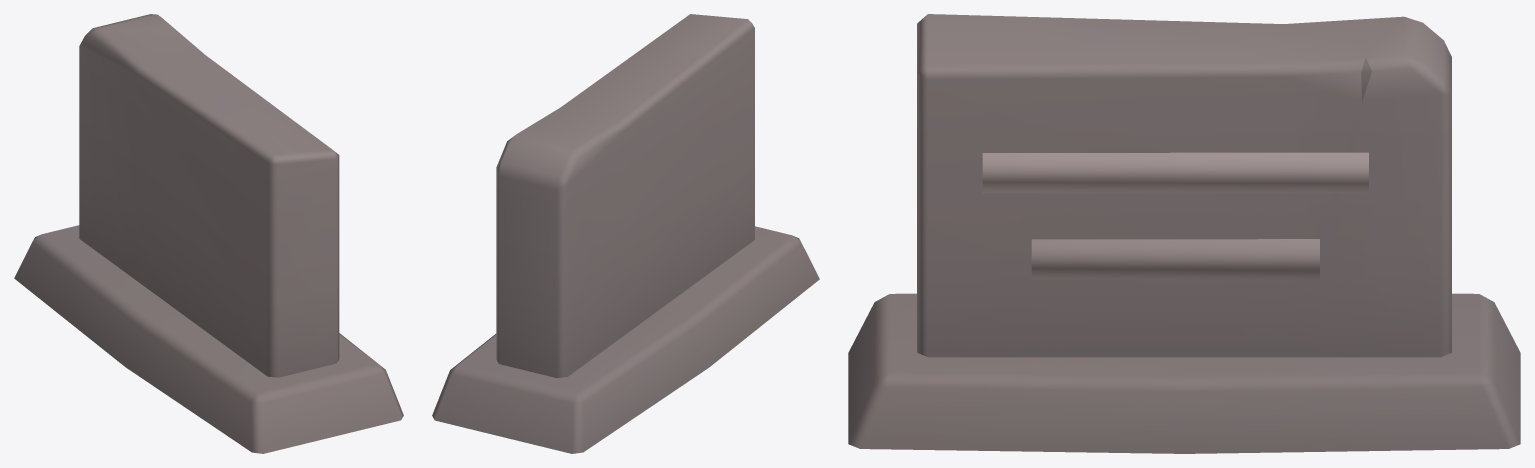
Rendered from tombstone01.glb.
3 renders of one model, left to right at view 1: azimuth 30°, elevation 25°; view 2: azimuth 150°, elevation 25°; view 3: azimuth 270°, elevation 25°, orthographic. The views are drawn at different scales.
Parts seen in each view (by area): view 1: Tombstone.01; view 2: Tombstone.01; view 3: Tombstone.01.
Boxes of the visible parts, left/top/right/bottom form: Tombstone.01: left=14, top=14, right=403, bottom=453; Tombstone.01: left=432, top=14, right=819, bottom=453; Tombstone.01: left=848, top=14, right=1520, bottom=453.
Bounding box in the file's own units: 1.15 × 1.76 × 2.93.
Materials: 1 (1 with a texture image).
